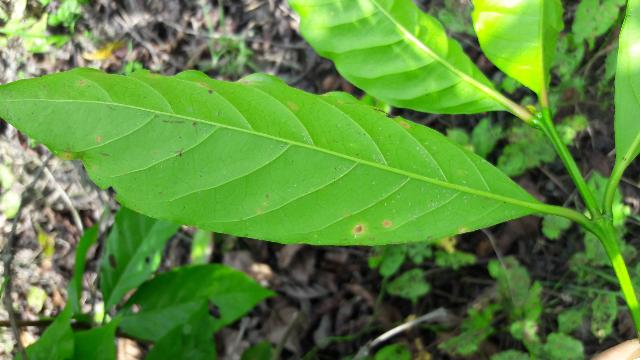rust_level_1: (0, 64, 543, 251)
